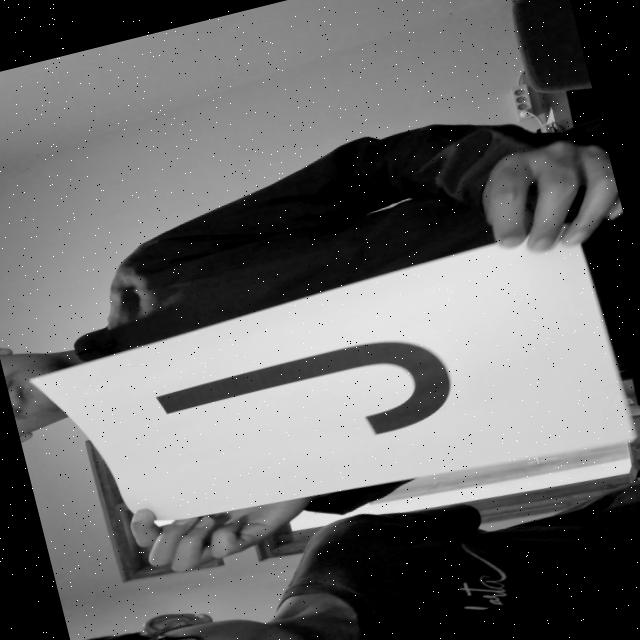j: (147, 311, 493, 494)
